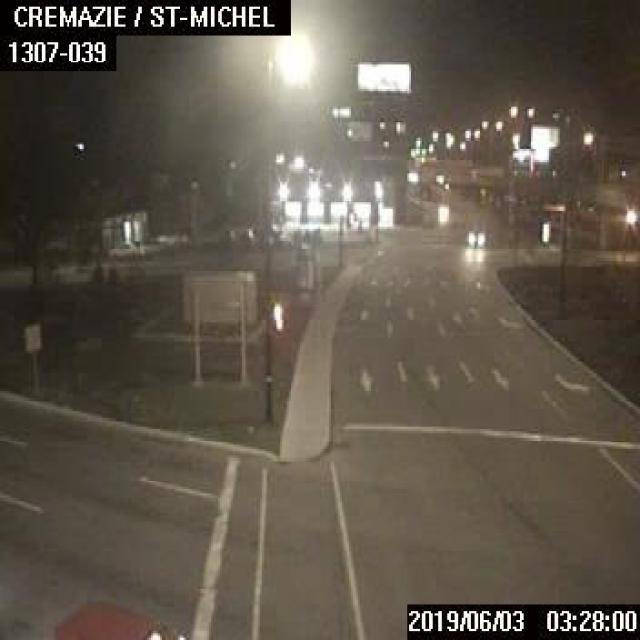vehicle: (53, 593, 187, 638), (106, 238, 144, 256), (462, 227, 489, 248)
